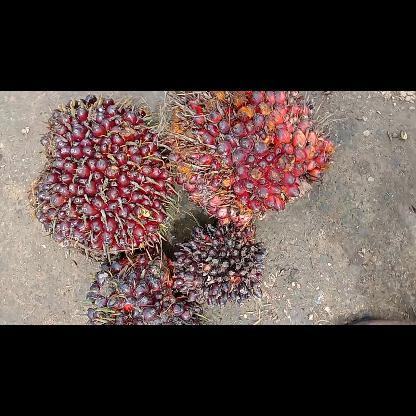Kurang masak: (30, 93, 178, 259), (83, 256, 206, 324)
TBS abnormal: (171, 222, 268, 308)
TBS masak: (161, 91, 335, 230)
